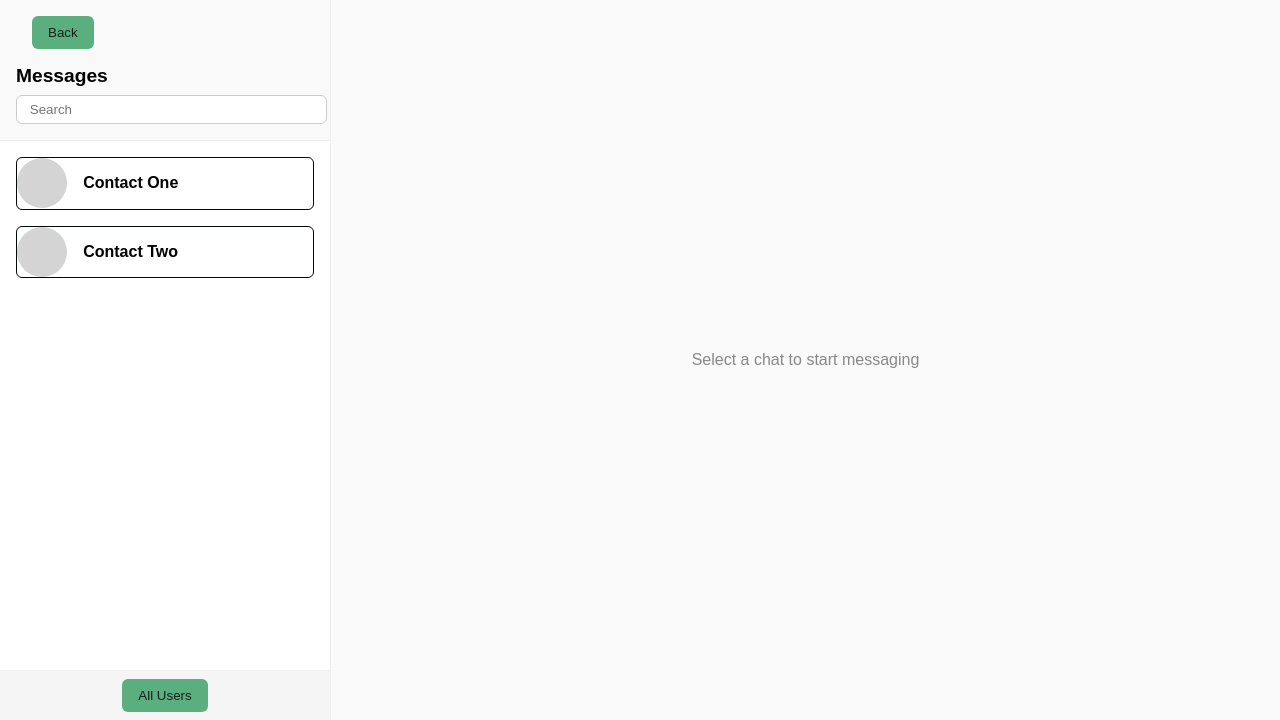
Test: Chatbox.vue › toggles categories visibility
The width and height of the screenshot is (1280, 720).
Click the button "All Users".
click(165, 696)  # box [122,679,208,712]
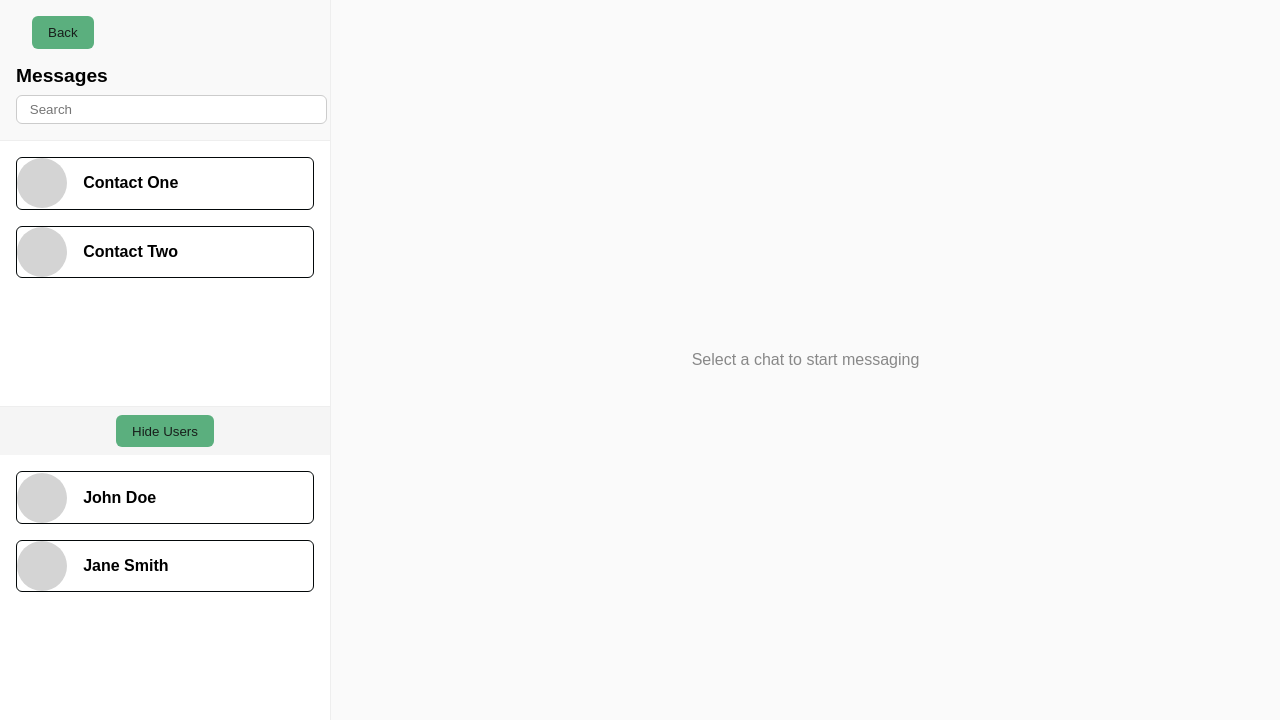
Expected: the button "Hide Users" is shown
Click the button "Hide Users".
click(165, 431)  # box [116,415,214,448]
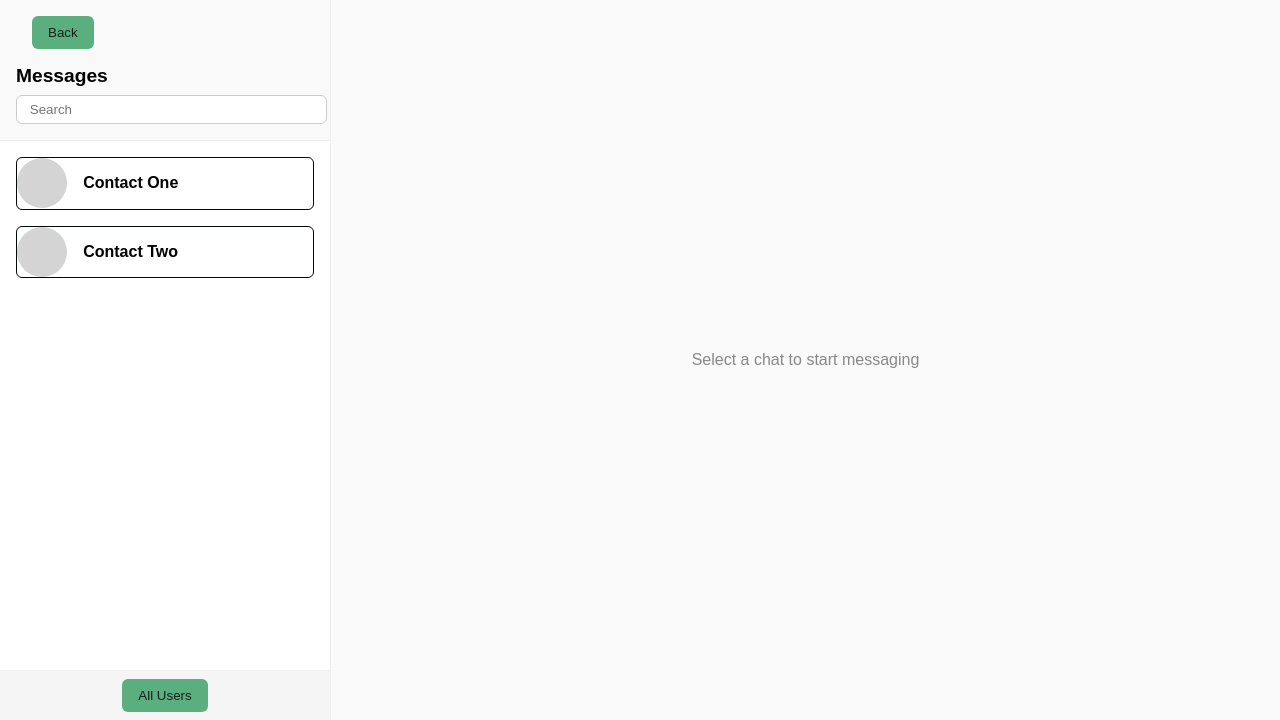
Expected: the button "All Users" is shown, [122,679,208,712]
